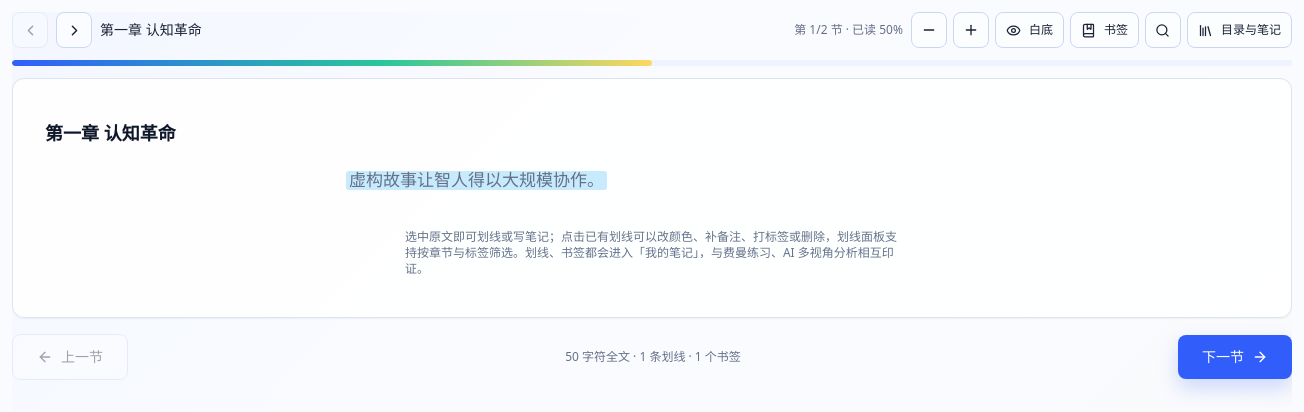
BookReader search › lists matches across the whole book and jumps to the hit
This screenshot has width=1304, height=412.
Click the button named "在全书中检索" at (1163, 30), box [1145,12,1181,48]
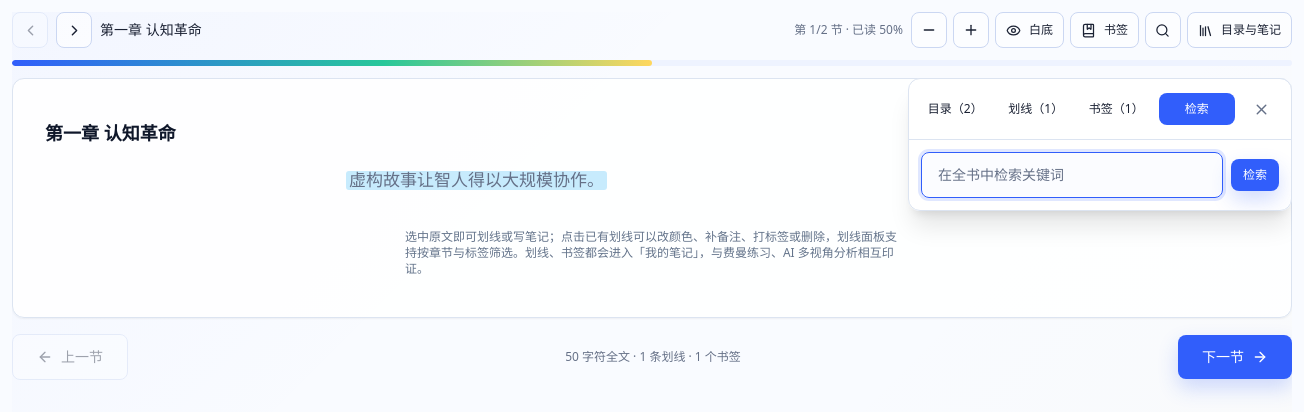
Type "骗局" into the field labelled "检索关键词" at (1072, 175), box [921,152,1223,198]
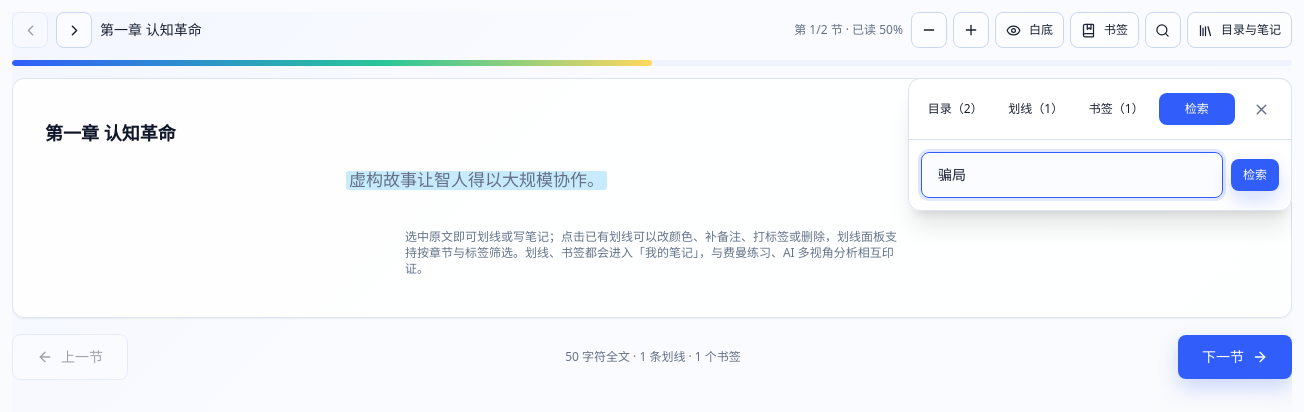
Click the 2nd button "检索" at (1255, 175), box [1231,159,1279,191]
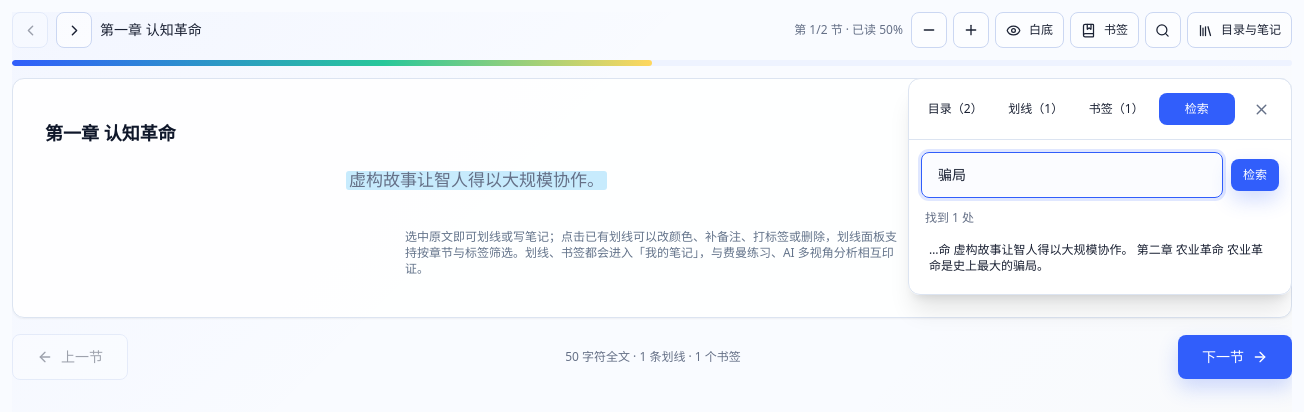
Result: the text "找到 1 处" is shown at [925,209,974,226]
Click the button "…命 虚构故事让智人得以大规模协作。 第二章 农业革命 农业革命是史上最大的骗局。" at (1100, 258), box [921,234,1279,282]
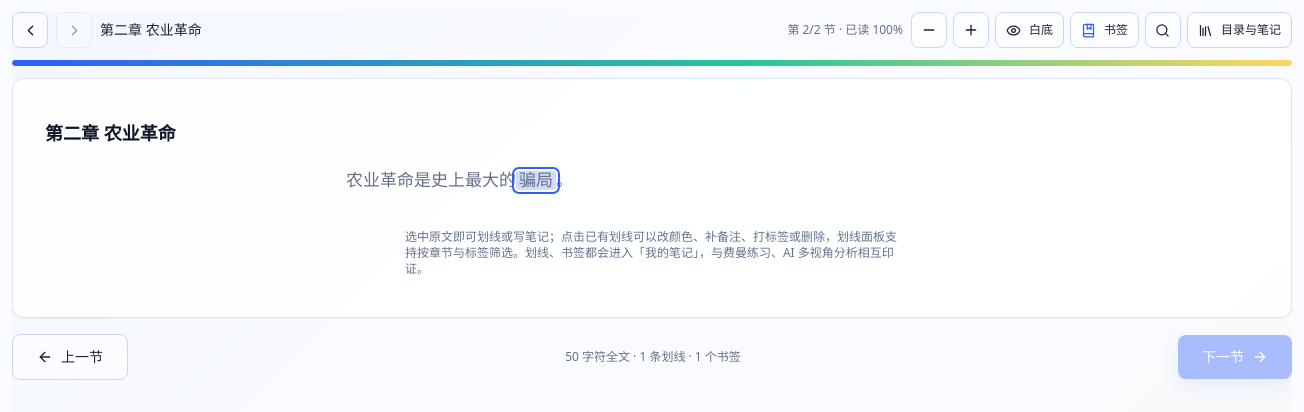
Result: the heading "第二章 农业革命" is shown at [45,121,176,145]
